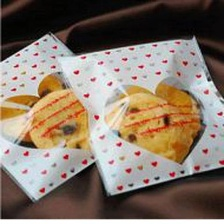snack: (50, 26, 224, 201), (0, 25, 134, 208)
